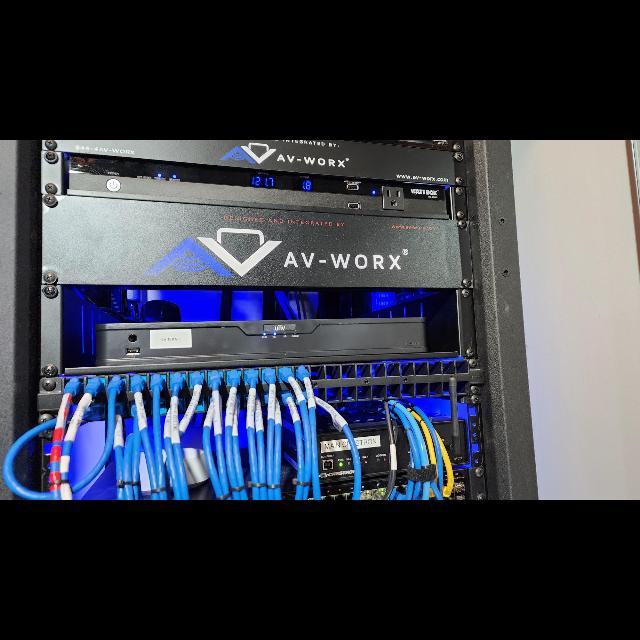Server: (3, 140, 537, 500)
